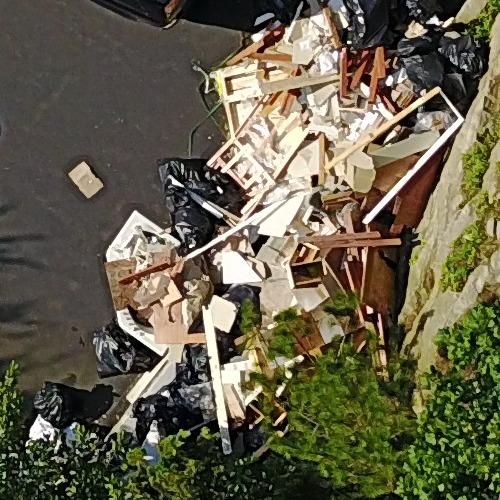clutter: (12, 4, 500, 457)
larvae: (10, 2, 498, 455)
